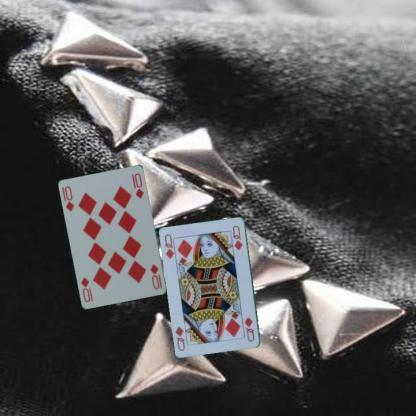10d: (148, 262, 164, 290), (60, 184, 76, 212)
Qd: (162, 232, 178, 261), (242, 314, 256, 344)
